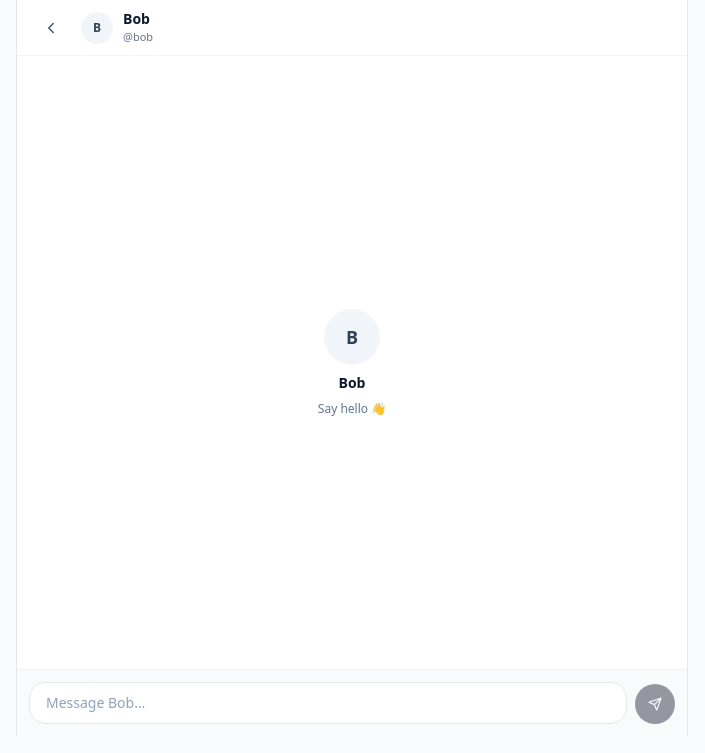
Scenario: ConversationView › treats a lost response as sent when the echo confirms it
In the text box: [328, 703] box [29, 682, 627, 724], type "made it"
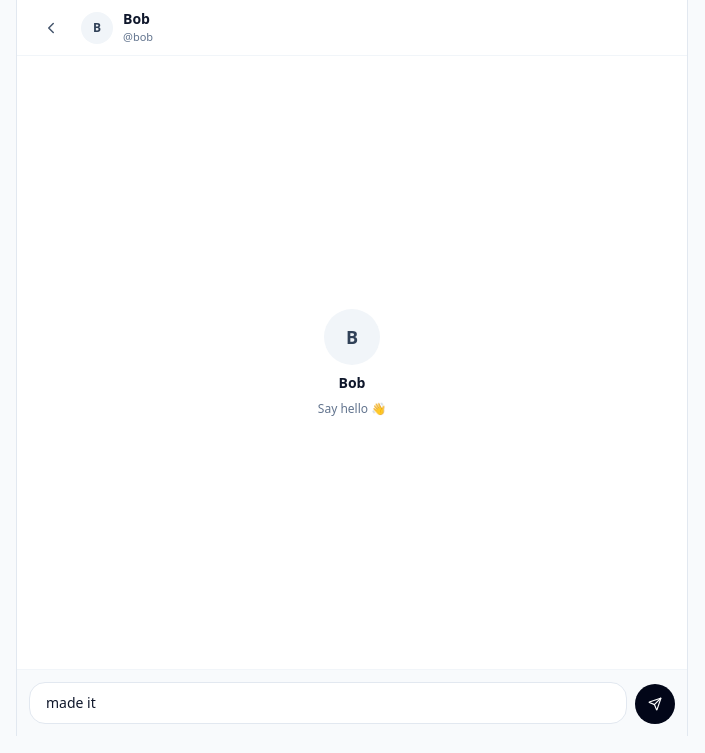
Click the button named "Send": [655, 704] box [635, 684, 675, 724]
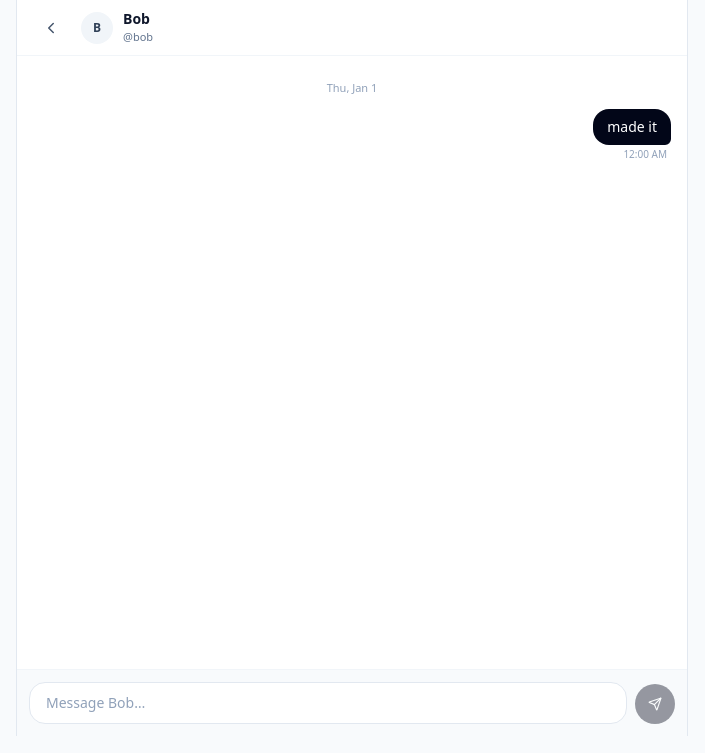
Now the text "made it" is shown, box [593, 108, 671, 144]
